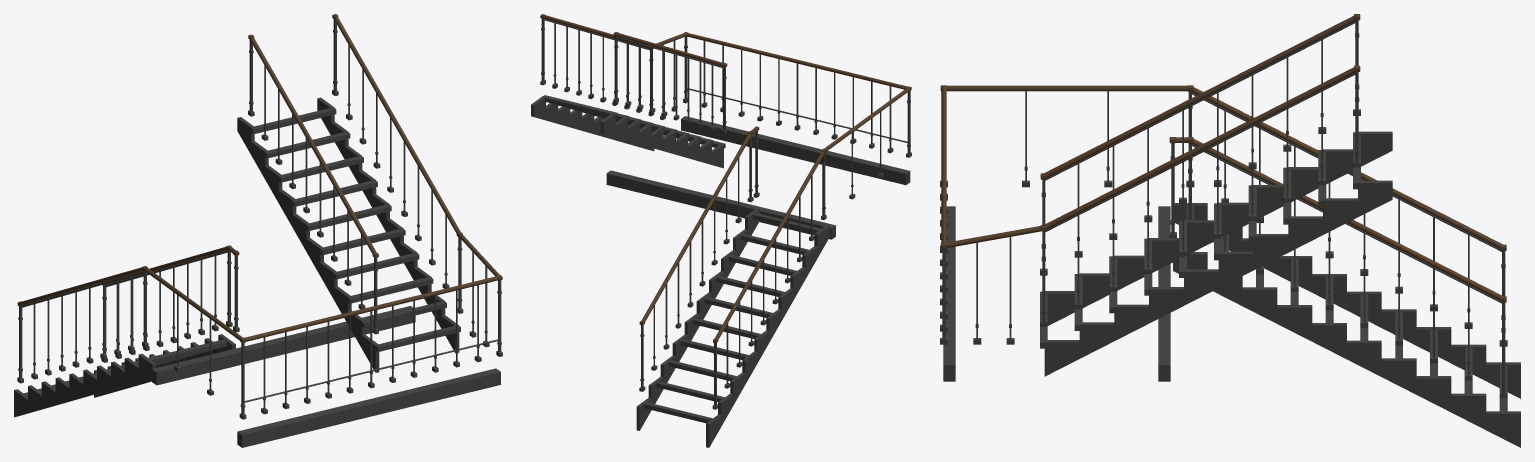
The model's file is stair_ironwork_court.glb.
The picture shows the model from 3 angles, left to right: view 1: azimuth 30°, elevation 25°; view 2: azimuth 150°, elevation 25°; view 3: azimuth 270°, elevation 25°; orthographic projection. The views are drawn at different scales.
Parts seen in each view (by area): view 1: StairStructure, Ironwork_cast_iron, Ironwork_wood_dark; view 2: StairStructure, Ironwork_cast_iron, Ironwork_wood_dark; view 3: StairStructure, Ironwork_cast_iron, Ironwork_wood_dark.
Boxes of the visible parts, x1,y1,x2,y2 form: StairStructure: [14, 97, 500, 447]; Ironwork_cast_iron: [17, 19, 502, 419]; Ironwork_wood_dark: [17, 14, 502, 343]; StairStructure: [531, 95, 910, 447]; Ironwork_cast_iron: [540, 18, 911, 409]; Ironwork_wood_dark: [540, 14, 911, 342]; StairStructure: [943, 131, 1520, 447]; Ironwork_cast_iron: [940, 20, 1507, 398]; Ironwork_wood_dark: [940, 14, 1506, 302].
Bounding box in the file's own units: 3.1 × 4.4 × 4.76.
